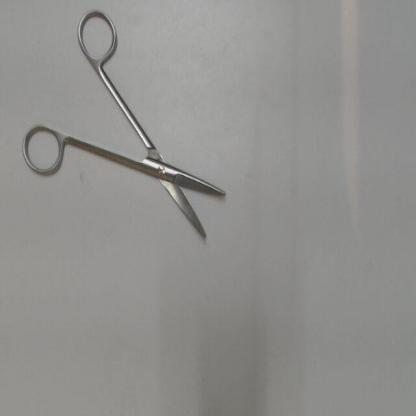Curved Mayo Scissors: (18, 4, 234, 253)
